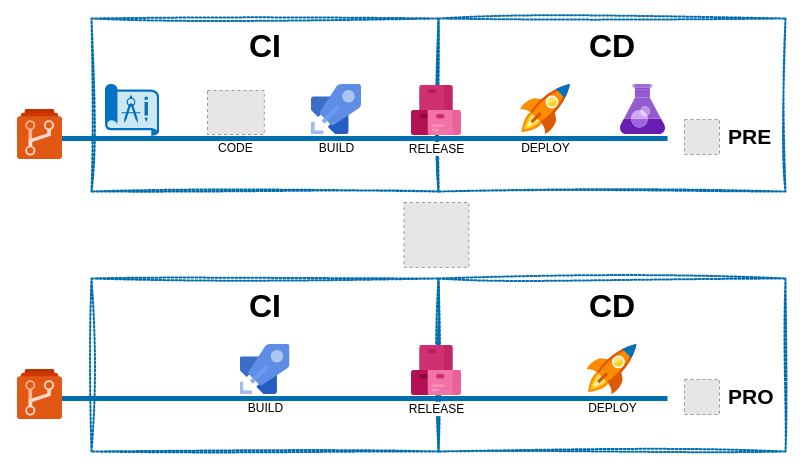
The diagram is 803 pixels wide and 469 high, and some of its shapes have lost their labels. Grey dashed boxes stand in for pictures. The box of each missing label's shape, as (x1, y1, x2, y2) in pixels:
PLAN: (105, 84, 159, 136)
TEST: (620, 84, 665, 134)
